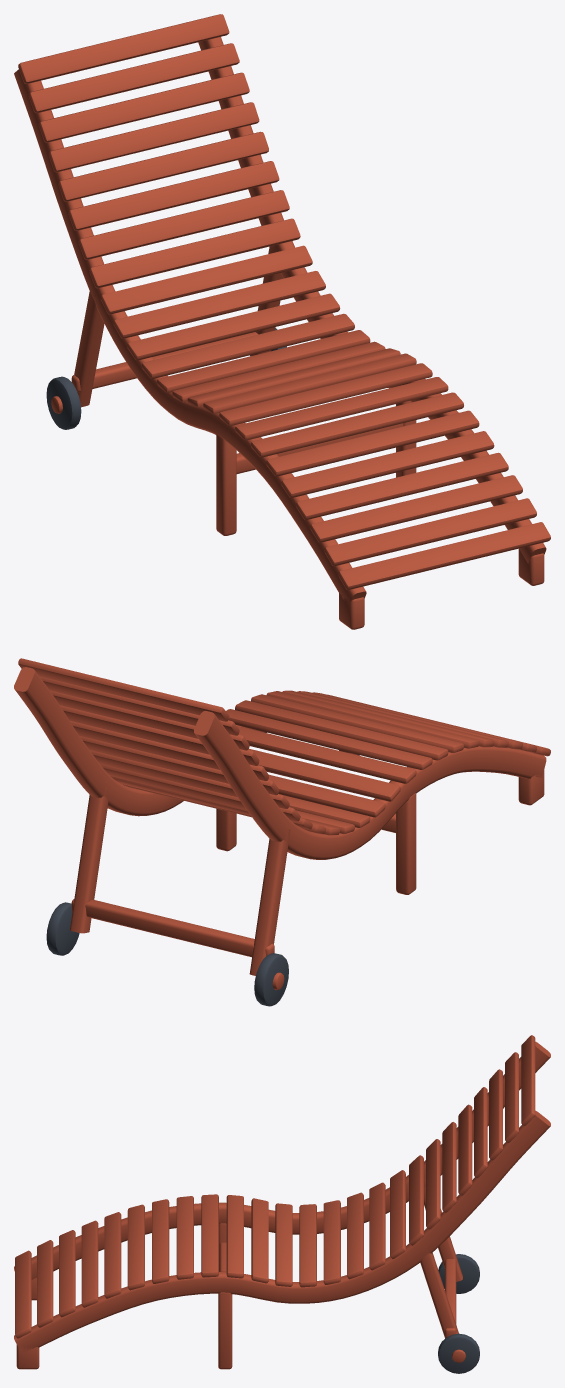
The model's file is espreguicadeira_curva_tijolo.glb.
3 renders of one model, top to bottom at view 1: azimuth 30°, elevation 25°; view 2: azimuth 150°, elevation 25°; view 3: azimuth 270°, elevation 25°, orthographic. The views are drawn at different scales.
Visible parts, largest first — view 1: espreguicadeira_curva_tijolo; view 2: espreguicadeira_curva_tijolo; view 3: espreguicadeira_curva_tijolo.
Boxes of the visible parts, <box> form: espreguicadeira_curva_tijolo: <box>14,14,550,629</box>; espreguicadeira_curva_tijolo: <box>14,658,550,1006</box>; espreguicadeira_curva_tijolo: <box>14,1035,550,1373</box>.
Size of the model in its own units: 0.729 by 1.02 by 1.91.
1 material, 1 textured.
